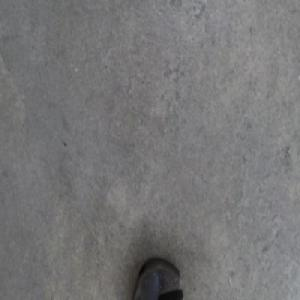AdjustableWrench: (132, 256, 184, 298)
